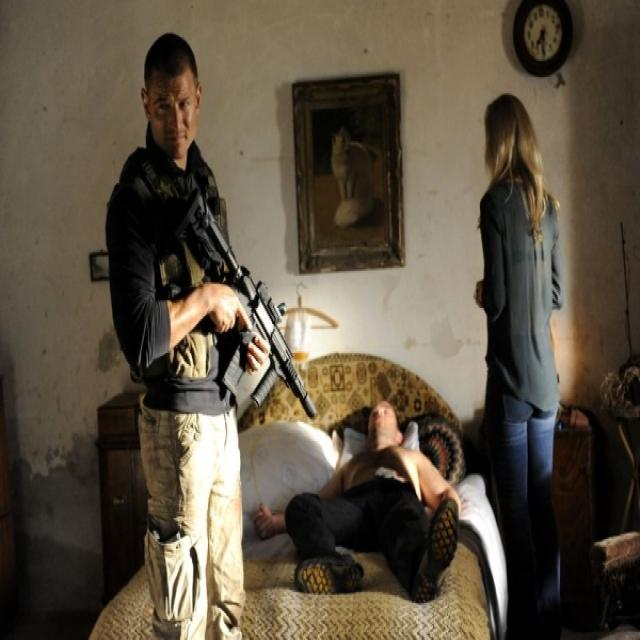rifle: (175, 183, 324, 425)
